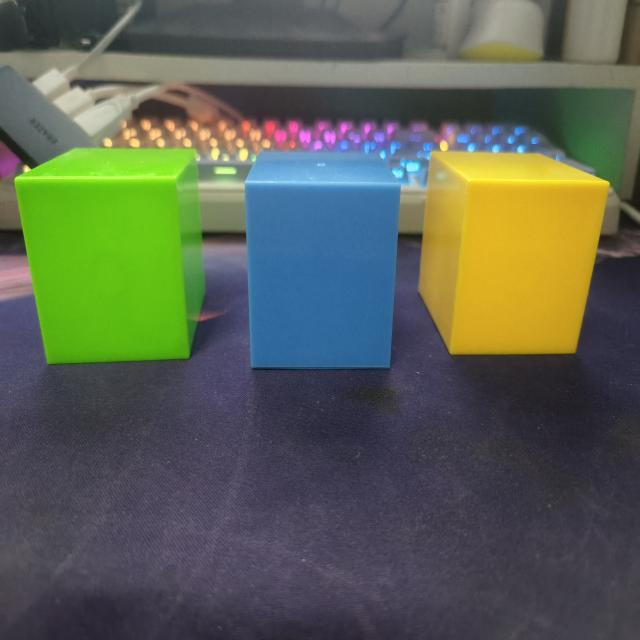blue: (243, 151, 402, 371)
green: (13, 148, 205, 367)
yellow: (418, 148, 611, 359)
